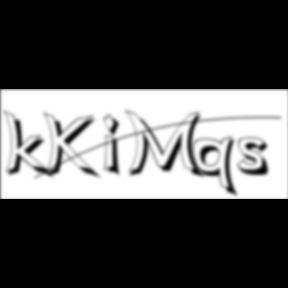K: (44, 110, 102, 182)
M: (124, 108, 208, 181)
i: (104, 112, 128, 180)
k: (3, 108, 57, 181)
q: (194, 135, 242, 200)
s: (238, 137, 276, 179)
